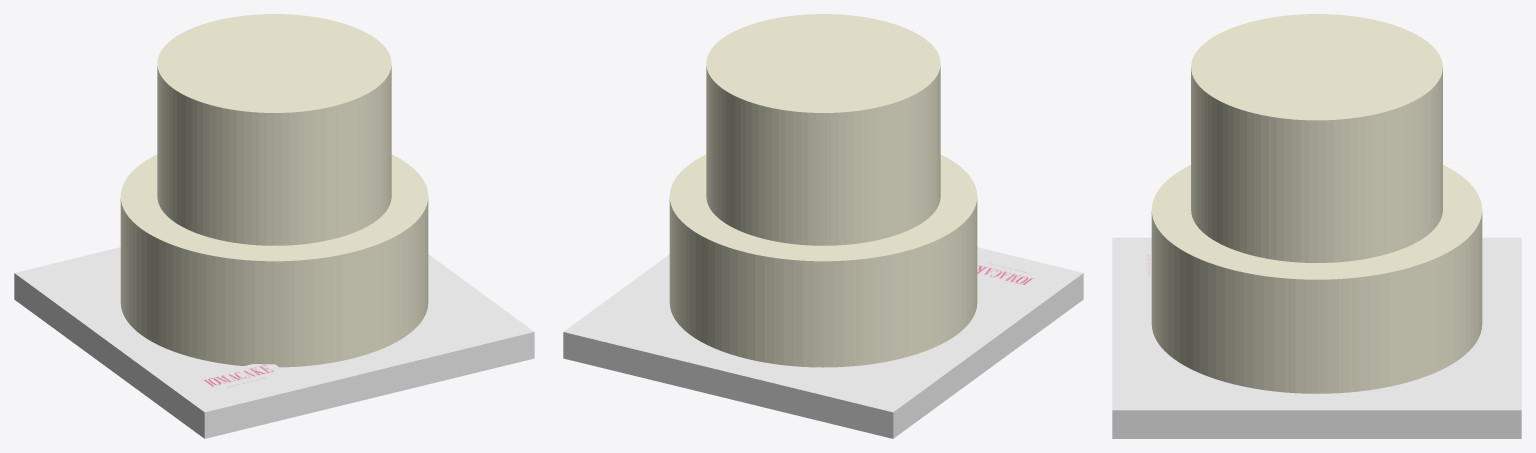
File: cake_tier2_8-6_layers2_v34.glb
3 views of the same model, side by side, from view 1: azimuth 30°, elevation 25°; view 2: azimuth 150°, elevation 25°; view 3: azimuth 270°, elevation 25° (orthographic). The views are drawn at different scales.
Parts seen in each view (by area): view 1: Tier1, Tier0, Board, Logo; view 2: Tier1, Tier0, Board, Logo; view 3: Tier1, Tier0, Board, Logo.
Part boxes in pixels (box(x1,y1,x2,y2)): Tier1: box(157, 14, 391, 245); Tier0: box(120, 154, 428, 367); Board: box(14, 247, 534, 438); Logo: box(190, 364, 291, 395); Tier1: box(706, 14, 940, 245); Tier0: box(669, 154, 977, 367); Board: box(563, 247, 1083, 438); Logo: box(977, 255, 1051, 290); Tier1: box(1191, 14, 1442, 262); Tier0: box(1151, 165, 1482, 393); Board: box(1112, 237, 1521, 438); Logo: box(1137, 244, 1151, 285).
Size of the model in its own units: 0.26 by 0.2 by 0.26.
